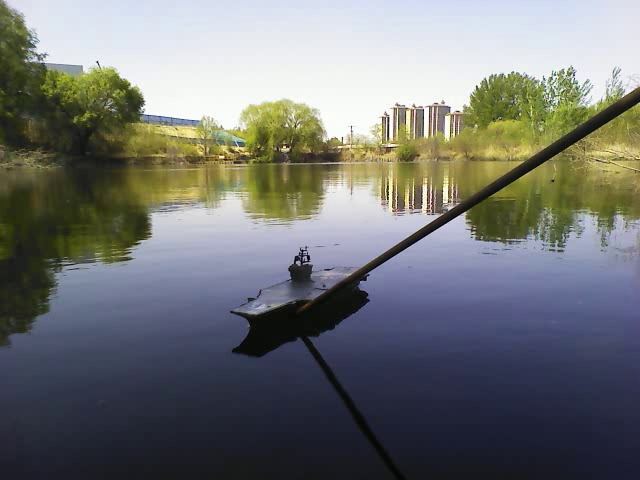aircraft_carrier: (230, 258, 379, 332)
